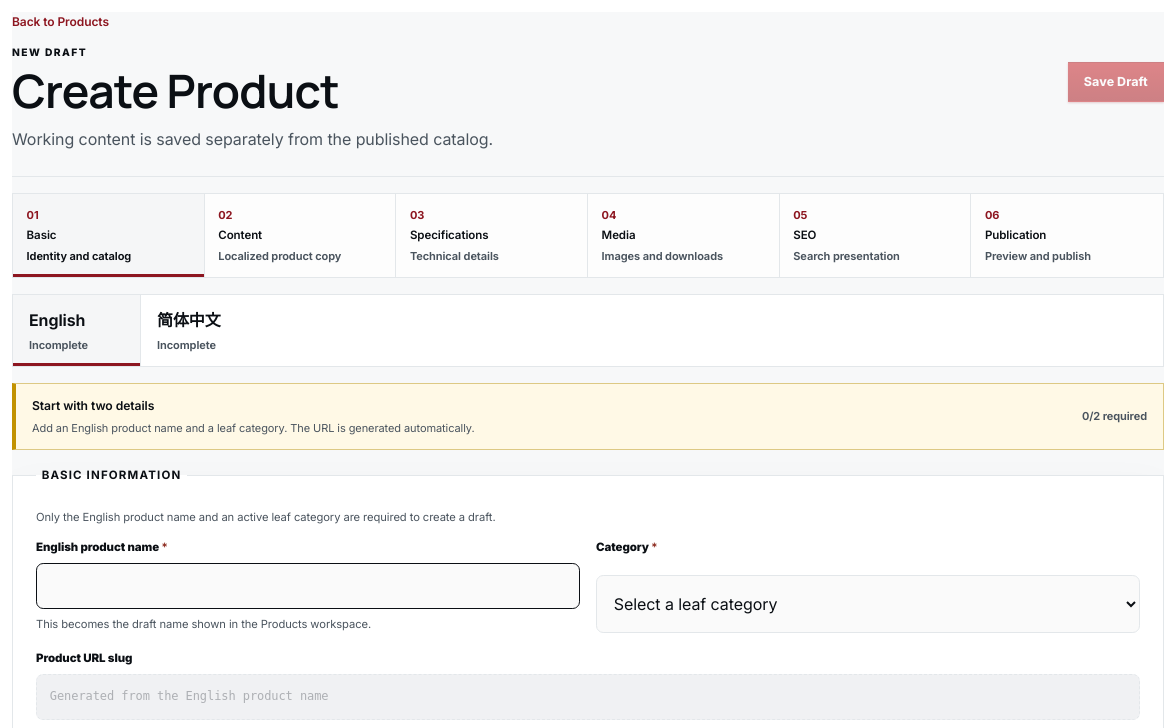
Test: automatic product slug › keeps category and generated product slugs as separate URL segments
Select "Solar modules" in the dropdown labelled "Category": (868, 604) [596,575,1140,633]
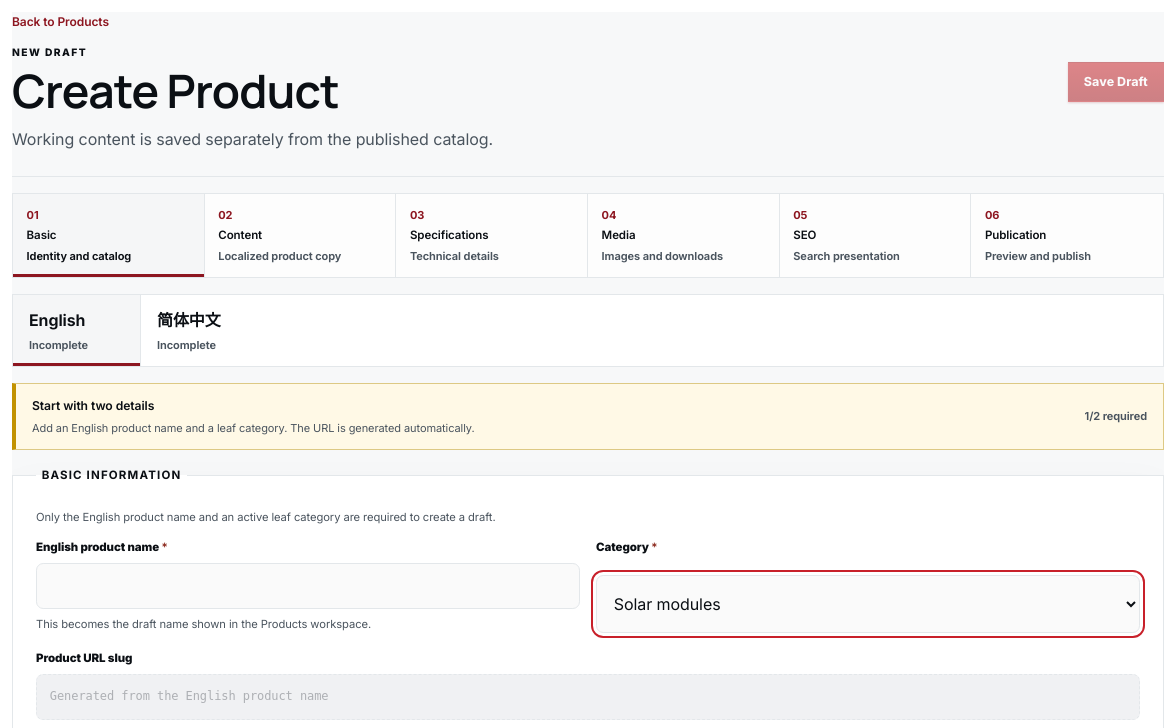
In the field labelled "English product name": (308, 586) [36,563,580,609], type "630 W TOPCon Module"
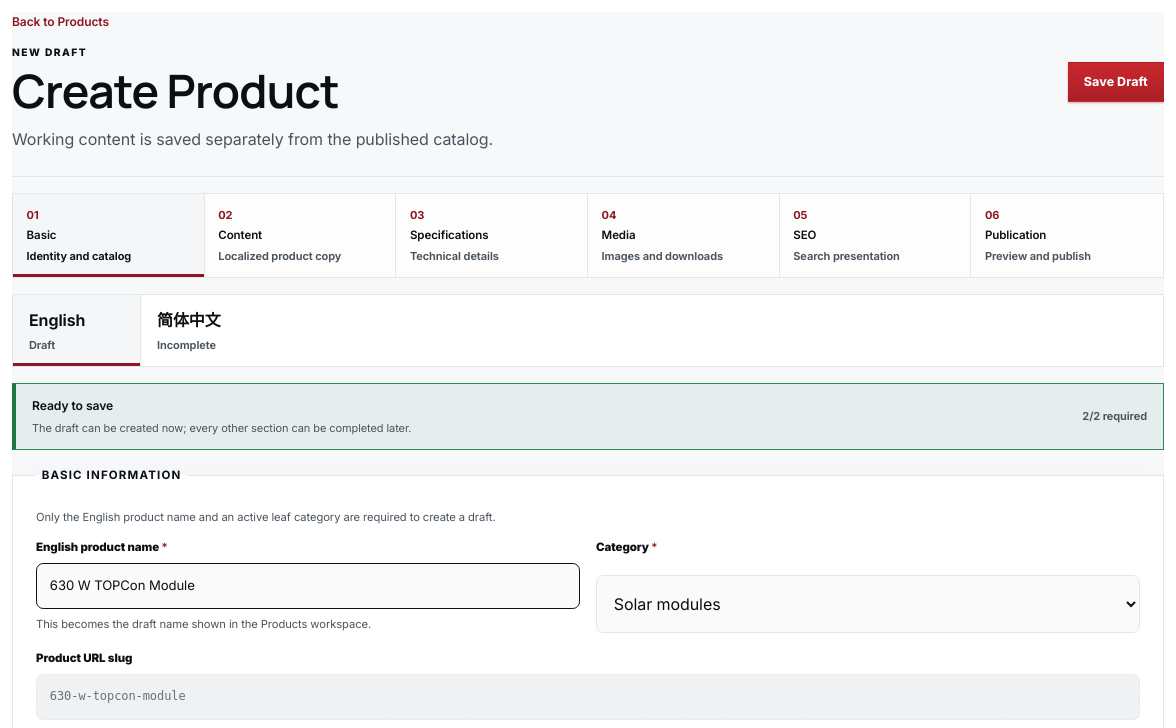
Expected: the field labelled "Product URL slug" holds "630-w-topcon-module", [36,674,1140,720]
